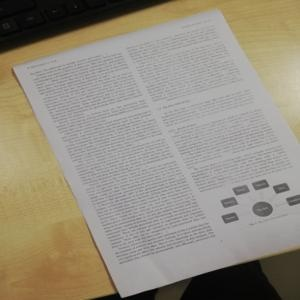diagram: (220, 179, 300, 224)
text: (92, 159, 219, 268), (125, 25, 244, 103), (29, 52, 141, 118), (64, 109, 175, 173), (191, 142, 293, 195), (160, 88, 255, 127)
